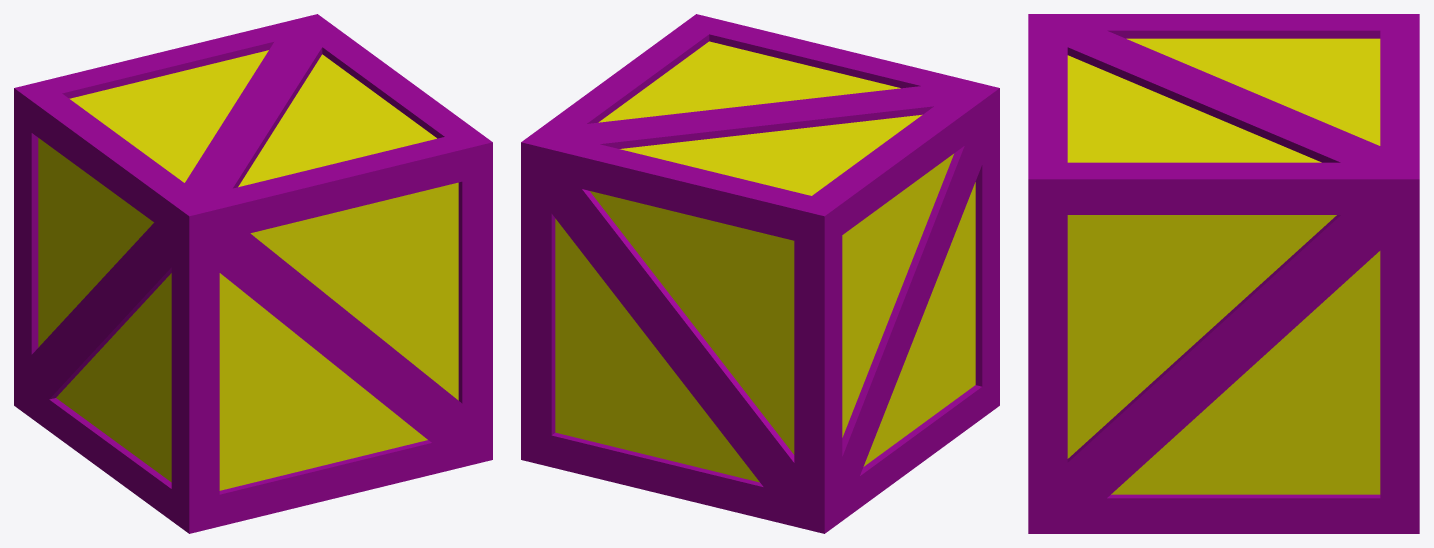
File: Crate_2.fbx
3 renders of one model, left to right at view 1: azimuth 30°, elevation 25°; view 2: azimuth 150°, elevation 25°; view 3: azimuth 270°, elevation 25°, orthographic. The views are drawn at different scales.
Visible parts, largest first — view 1: pCube2; view 2: pCube2; view 3: pCube2.
Boxes of the visible parts, <box> form: pCube2: <box>14,14,492,533</box>; pCube2: <box>521,14,999,533</box>; pCube2: <box>1028,14,1419,533</box>.
Bounding box in the file's own units: 8.97 × 8.97 × 8.97.
